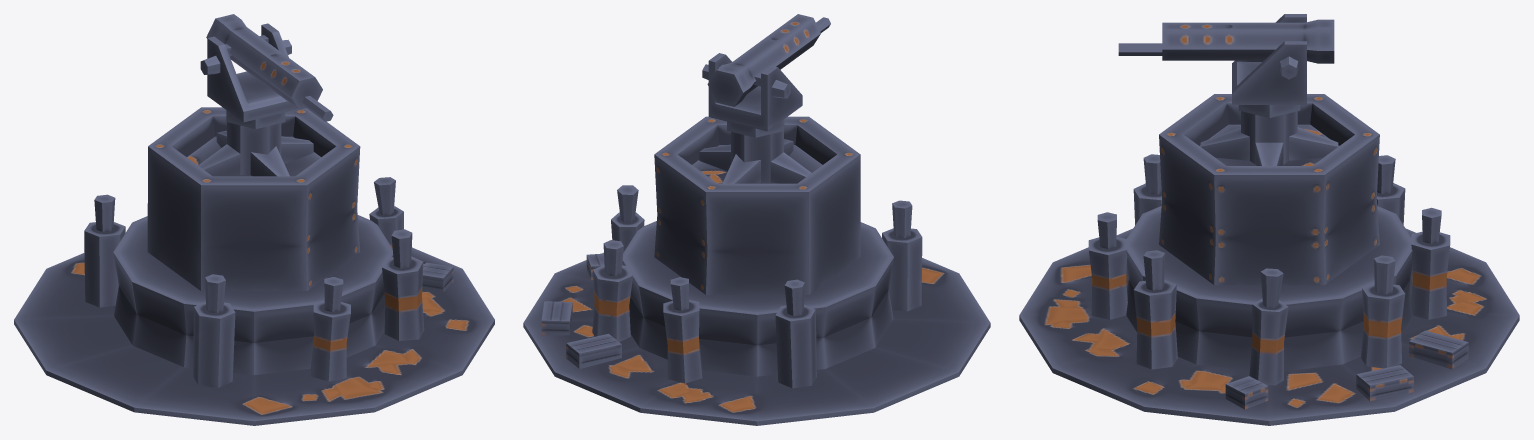
3 views of the same model, side by side, from view 1: azimuth 30°, elevation 25°; view 2: azimuth 150°, elevation 25°; view 3: azimuth 270°, elevation 25° (orthographic). The views are drawn at different scales.
Parts seen in each view (by area): view 1: 1, 2; view 2: 1, 2; view 3: 1, 2.
Boxes of the visible parts, box(x1,y1,x2,y2) form: 1: box(14, 107, 494, 425); 2: box(200, 14, 333, 129); 1: box(523, 116, 990, 425); 2: box(702, 14, 830, 137); 1: box(1019, 94, 1519, 425); 2: box(1118, 14, 1334, 117).
Bounding box in the file's own units: 100 × 65.62 × 100.
